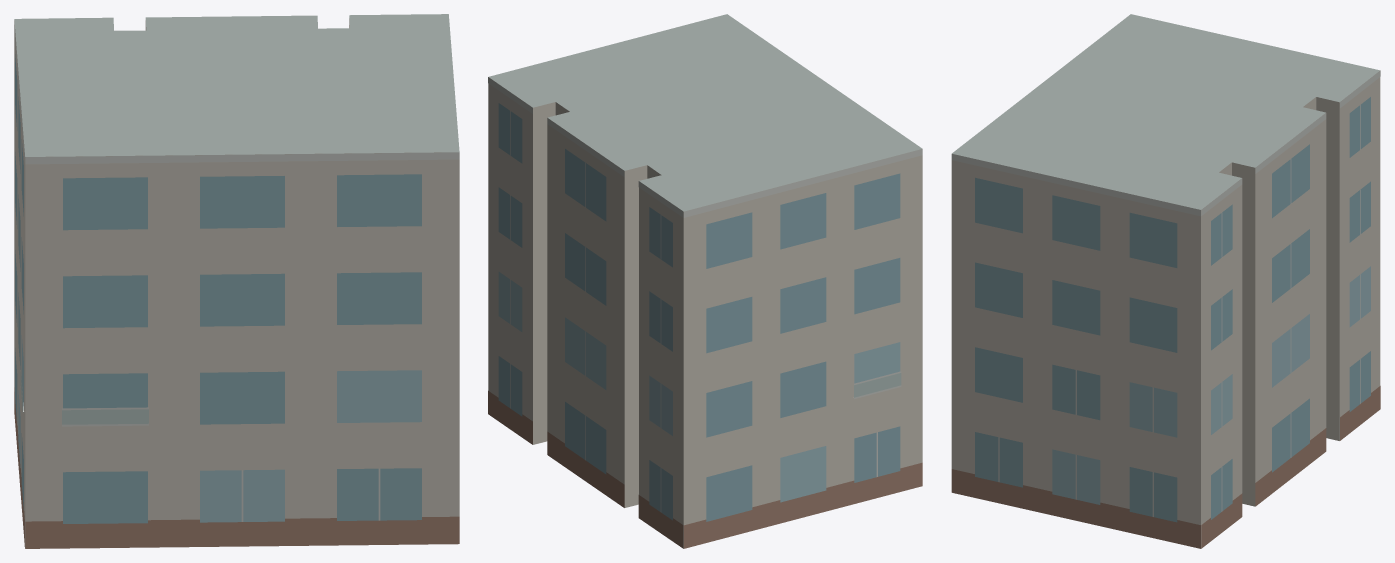
File: survey-upis-33007300.glb
The picture shows the model from 3 angles, left to right: view 1: azimuth 30°, elevation 25°; view 2: azimuth 150°, elevation 25°; view 3: azimuth 270°, elevation 25°; orthographic projection. The views are drawn at different scales.
Parts seen in each view (by area): view 1: survey-upis-33007300.tmp; view 2: survey-upis-33007300.tmp; view 3: survey-upis-33007300.tmp.
Part boxes in pixels (bbox=[...]): survey-upis-33007300.tmp: bbox=[14, 14, 459, 548]; survey-upis-33007300.tmp: bbox=[488, 14, 922, 548]; survey-upis-33007300.tmp: bbox=[951, 14, 1380, 548].
Bounding box in the file's own units: 16 × 12.9 × 14.8.
